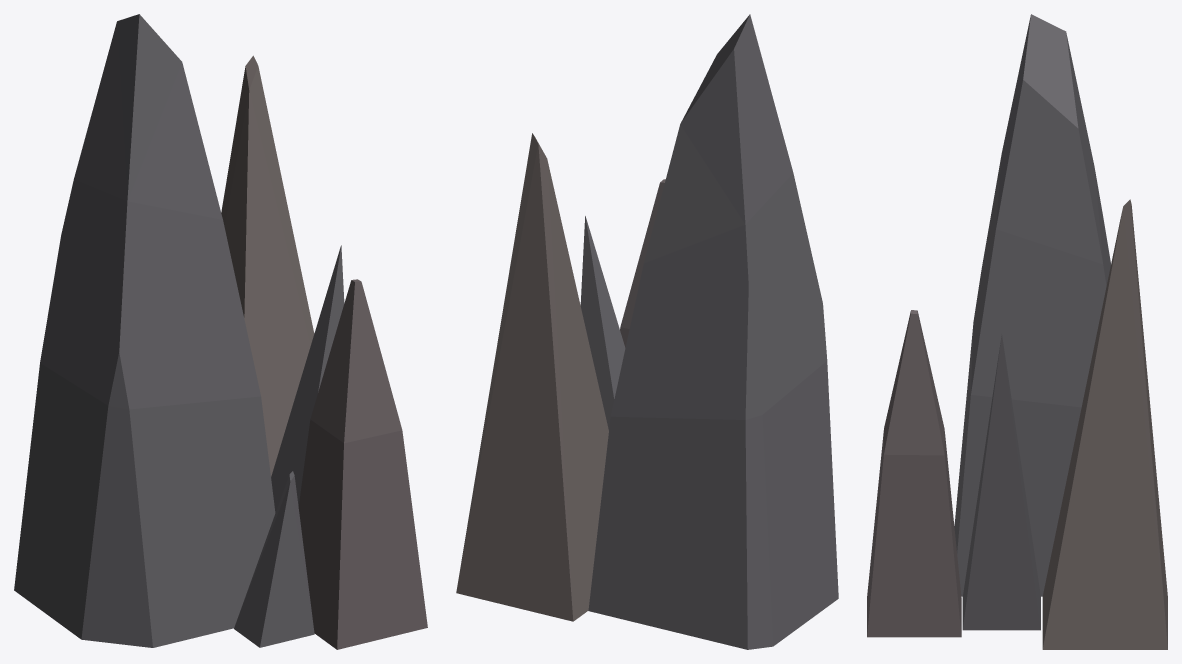
File: Rocks_Sharp_s_01 2.fbx
The picture shows the model from 3 angles, left to right: view 1: azimuth 30°, elevation 25°; view 2: azimuth 150°, elevation 25°; view 3: azimuth 270°, elevation 25°; orthographic projection. The views are drawn at different scales.
Parts seen in each view (by area): view 1: Rocks_Sharp_s_01; view 2: Rocks_Sharp_s_01; view 3: Rocks_Sharp_s_01.
Boxes of the visible parts, x1,y1,x2,y2 form: Rocks_Sharp_s_01: (14, 14, 427, 649); Rocks_Sharp_s_01: (456, 14, 838, 649); Rocks_Sharp_s_01: (867, 14, 1167, 649).
Bounding box in the file's own units: 51.38 × 97.13 × 49.38.
